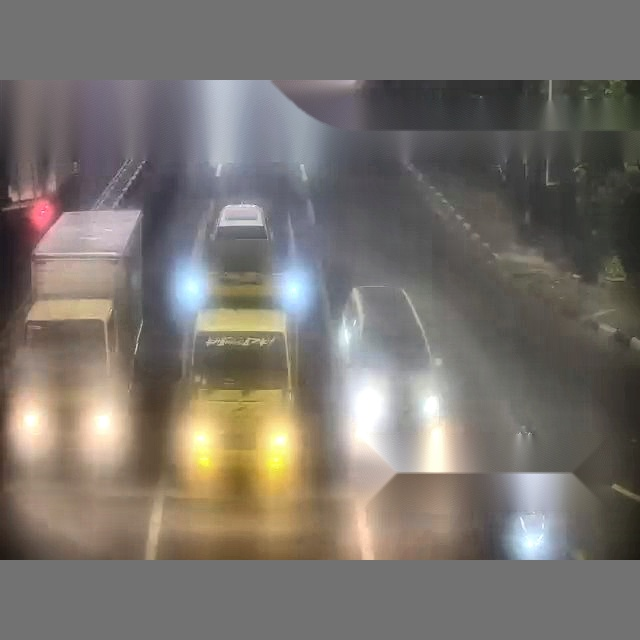Mobil: (208, 204, 272, 308)
Truk: (0, 209, 159, 557)
